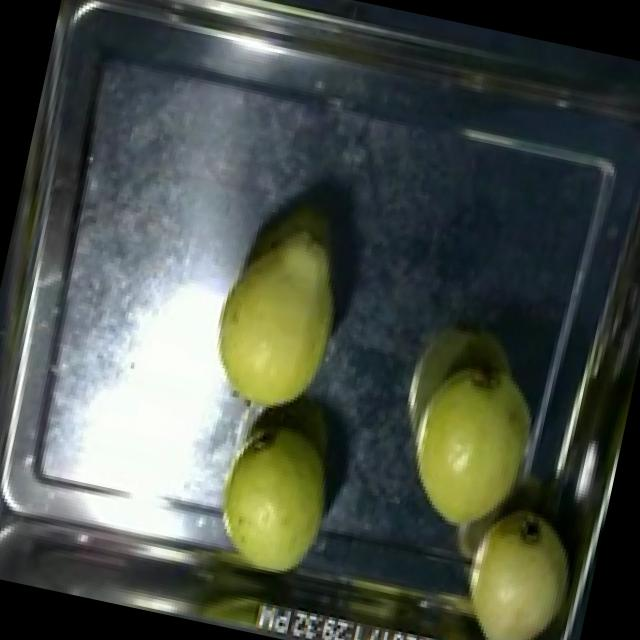Fruit: (371, 308, 568, 556), (190, 200, 362, 434), (193, 402, 350, 590), (434, 486, 606, 640)
